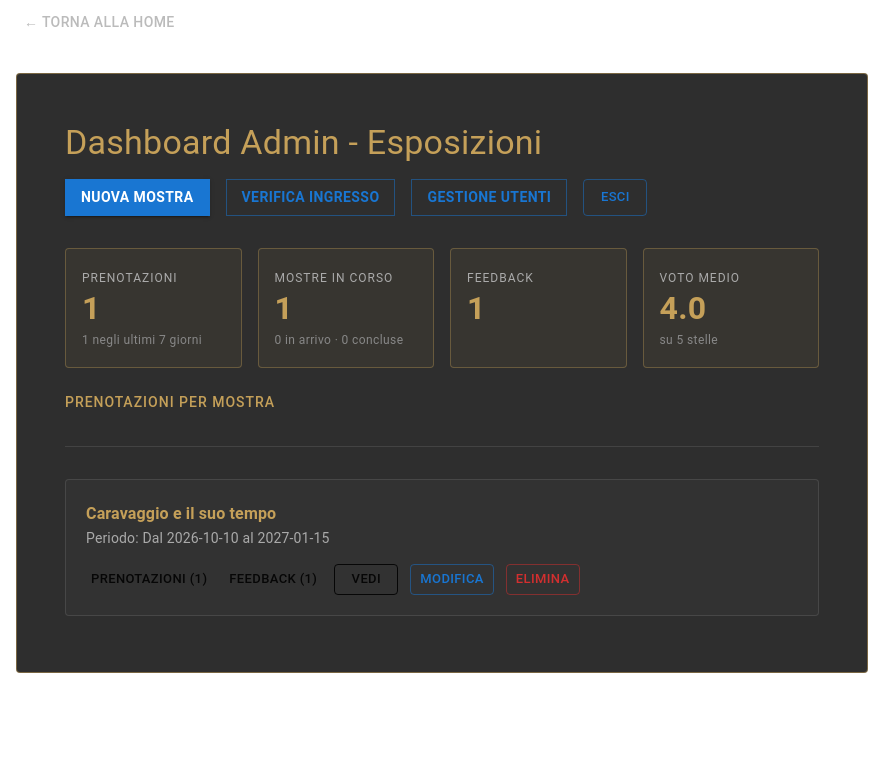
Test: AdminDashboard - gestione › elimina una mostra dopo la conferma
Expected: the heading "Caravaggio e il suo tempo" is shown, [86,504,276,523]
Click the button "Elimina".
click(543, 580)  # box [506,564,580,595]
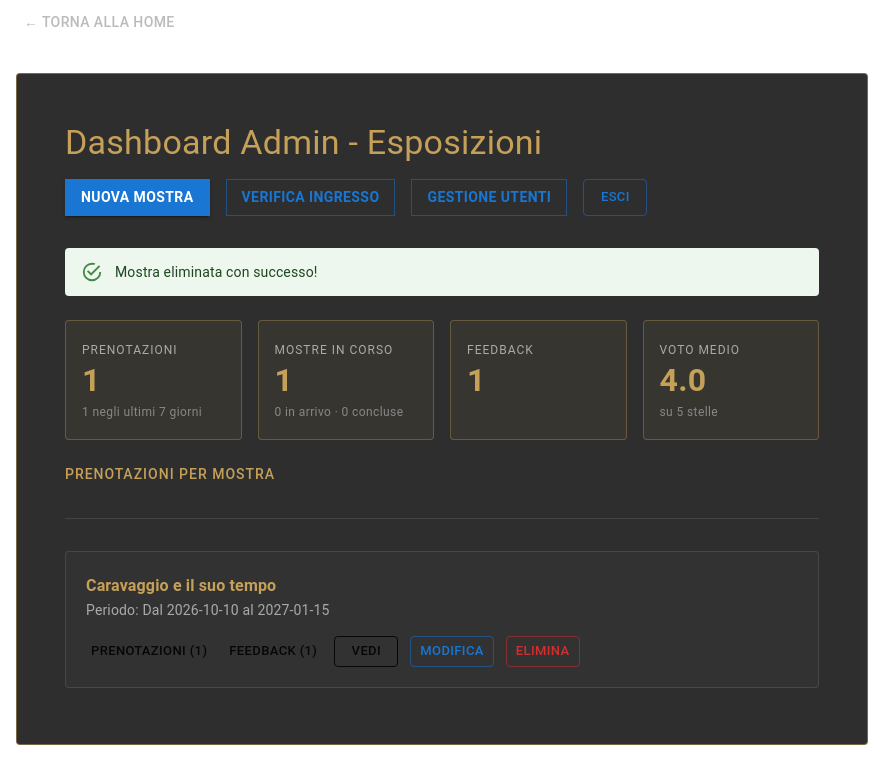
Expected: the text "Mostra eliminata con successo!" is shown, [115,264,318,280]
